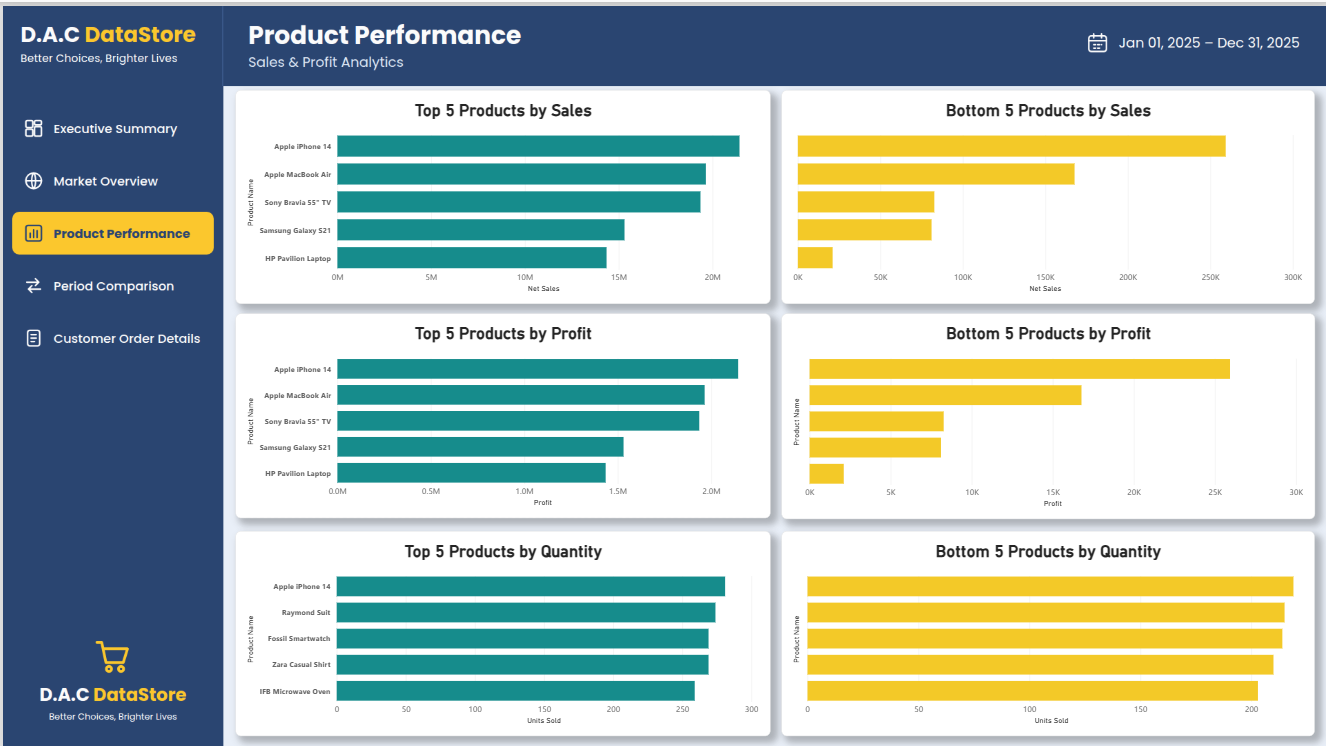

The dashboard page shown, as its layout file describes it:
{"tool":"powerbi","page":{"name":"Product Performance","canvas":[1920,1080],"ordinal":2},"visuals":[{"type":"clusteredBarChart","title":"Top 5 Products by Sales ","fields":{"Category":["Dim Product.Product Name"],"Y":["Sum(Fact Table.Net Sales )"]},"box":[337.5,122.5,775,310],"z":1000},{"type":"clusteredBarChart","title":"Bottom 5 Products by Sales","fields":{"Category":["Dim Product.Product Name"],"Y":["Sum(Fact Table.Net Sales )"]},"box":[1127.5,122.5,772.5,310],"z":2000},{"type":"clusteredBarChart","title":"Top 5 Products by Profit","fields":{"Category":["Dim Product.Product Name"],"Y":["Sum(Fact Table.Profit)"]},"box":[336.7,446.7,775,296.7],"z":3000},{"type":"clusteredBarChart","title":"Bottom 5 Products by Profit","fields":{"Category":["Dim Product.Product Name"],"Y":["Sum(Fact Table.Profit)"]},"box":[1128.5,446.2,773,298.2],"z":4000},{"type":"clusteredBarChart","title":"Top 5 Products by Quantity","fields":{"Category":["Dim Product.Product Name"],"Y":["Sum(Fact Table.Units Sold)"]},"box":[337.5,760,775,297.5],"z":5000},{"type":"clusteredBarChart","title":"Bottom 5 Products by Quantity","fields":{"Category":["Dim Product.Product Name"],"Y":["Sum(Fact Table.Units Sold)"]},"box":[1127.5,760,772.5,297.5],"z":6000}]}

Visuals, with their boxes on the page's 1920x1080 design canvas (x1, y1, x2, y2). These are canvas units, not pixel positions in the 1326x746 screenshot, which may show the page scaled, cropped or inside an application window:
"Top 5 Products by Sales " clusteredBarChart: {"x1": 338, "y1": 122, "x2": 1112, "y2": 432}
"Bottom 5 Products by Sales" clusteredBarChart: {"x1": 1128, "y1": 122, "x2": 1900, "y2": 432}
"Top 5 Products by Profit" clusteredBarChart: {"x1": 337, "y1": 447, "x2": 1112, "y2": 743}
"Bottom 5 Products by Profit" clusteredBarChart: {"x1": 1128, "y1": 446, "x2": 1902, "y2": 744}
"Top 5 Products by Quantity" clusteredBarChart: {"x1": 338, "y1": 760, "x2": 1112, "y2": 1058}
"Bottom 5 Products by Quantity" clusteredBarChart: {"x1": 1128, "y1": 760, "x2": 1900, "y2": 1058}
